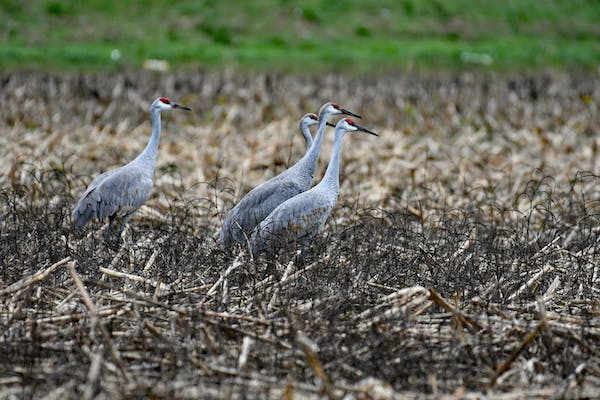Walking: (212, 91, 391, 290), (56, 84, 196, 296)
